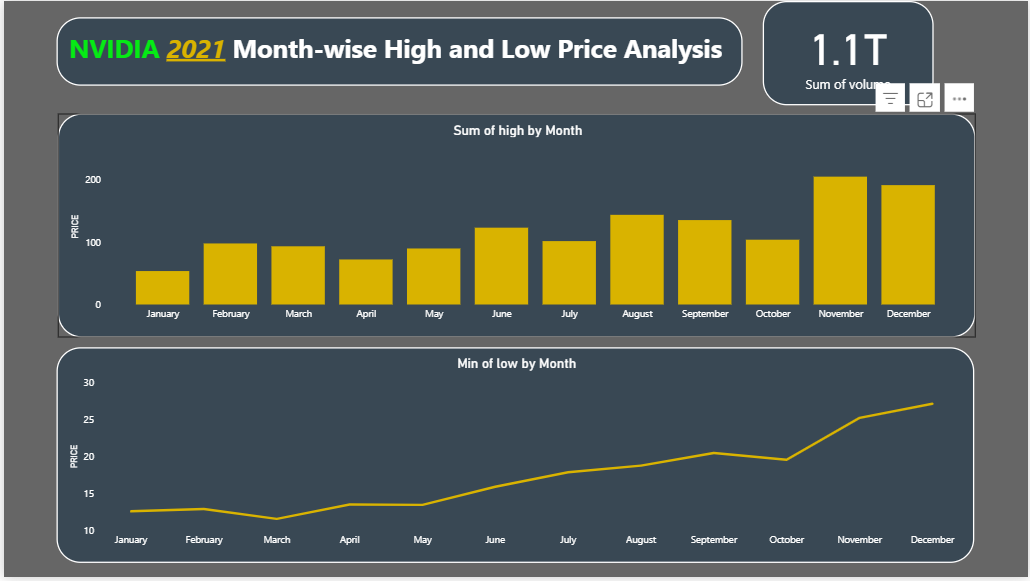

This screenshot's page, from the dashboard's own definition file:
{"tool":"powerbi","page":{"name":"Page 3","canvas":[1280,720],"ordinal":2},"visuals":[{"type":"lineChart","fields":{"Category":["nvidia_stock_2015_to_2024.date.Variation.Date Hierarchy.Month"],"Y":["Min(nvidia_stock_2015_to_2024.low)"]},"box":[66.3,433.1,1147.2,269.9],"z":0},{"type":"textbox","box":[66.3,20.9,857.7,85.9],"z":1},{"type":"card","fields":{"Values":["Sum(nvidia_stock_2015_to_2024.volume)"]},"box":[948.5,0,213.5,130.1],"z":2},{"type":"lineStackedColumnComboChart","fields":{"Category":["nvidia_stock_2015_to_2024.date.Variation.Date Hierarchy.Month"],"Y":["Sum(nvidia_stock_2015_to_2024.high)"]},"box":[67.5,141.1,1147.2,279.8],"z":3}]}

Visuals, with their boxes in screenshot pixels (x1, y1, x2, y2), scaled from the page's 1280x720 canvas onto the 1030x581 screenshot:
lineChart - nvidia_stock_2015_to_2024.date.Variation.Date Hierarchy.Month x Min(nvidia_stock_2015_to_2024.low): x1=53 y1=349 x2=976 y2=567
textbox: x1=53 y1=17 x2=744 y2=86
card - Sum(nvidia_stock_2015_to_2024.volume): x1=763 y1=0 x2=935 y2=105
lineStackedColumnComboChart - nvidia_stock_2015_to_2024.date.Variation.Date Hierarchy.Month x Sum(nvidia_stock_2015_to_2024.high): x1=54 y1=114 x2=977 y2=340
